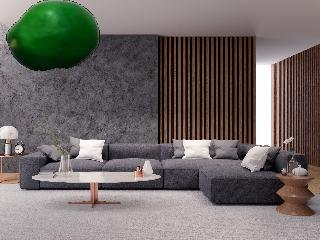lime: (6, 0, 101, 72)
